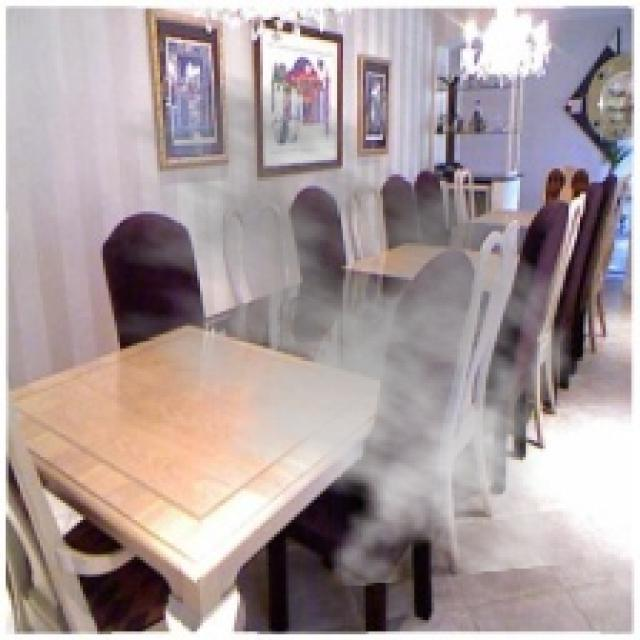Smoke: (68, 69, 603, 588)
